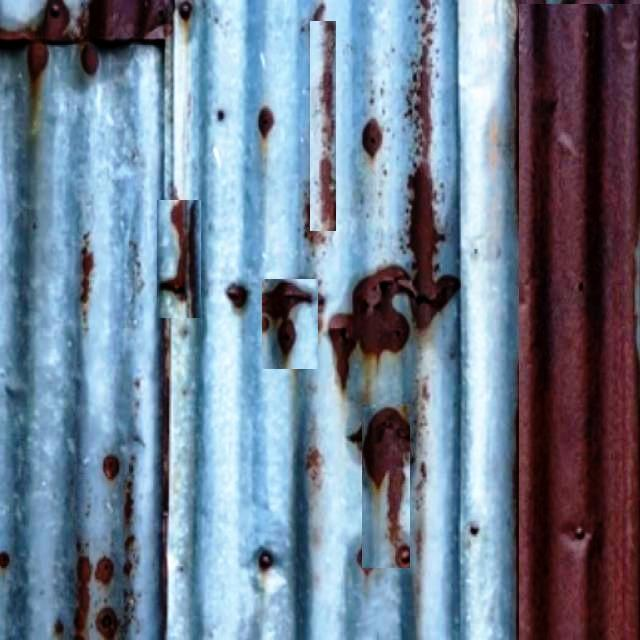Corrosion: (520, 3, 640, 640), (411, 160, 460, 328), (363, 408, 411, 548), (354, 266, 416, 356), (89, 0, 172, 42), (262, 279, 312, 348), (170, 200, 199, 318), (89, 0, 144, 42), (329, 314, 356, 390), (74, 557, 91, 640), (41, 0, 69, 40), (27, 41, 48, 78), (95, 609, 117, 640), (81, 41, 98, 74), (0, 30, 39, 43), (95, 558, 113, 586), (102, 456, 119, 480), (179, 0, 192, 18)
